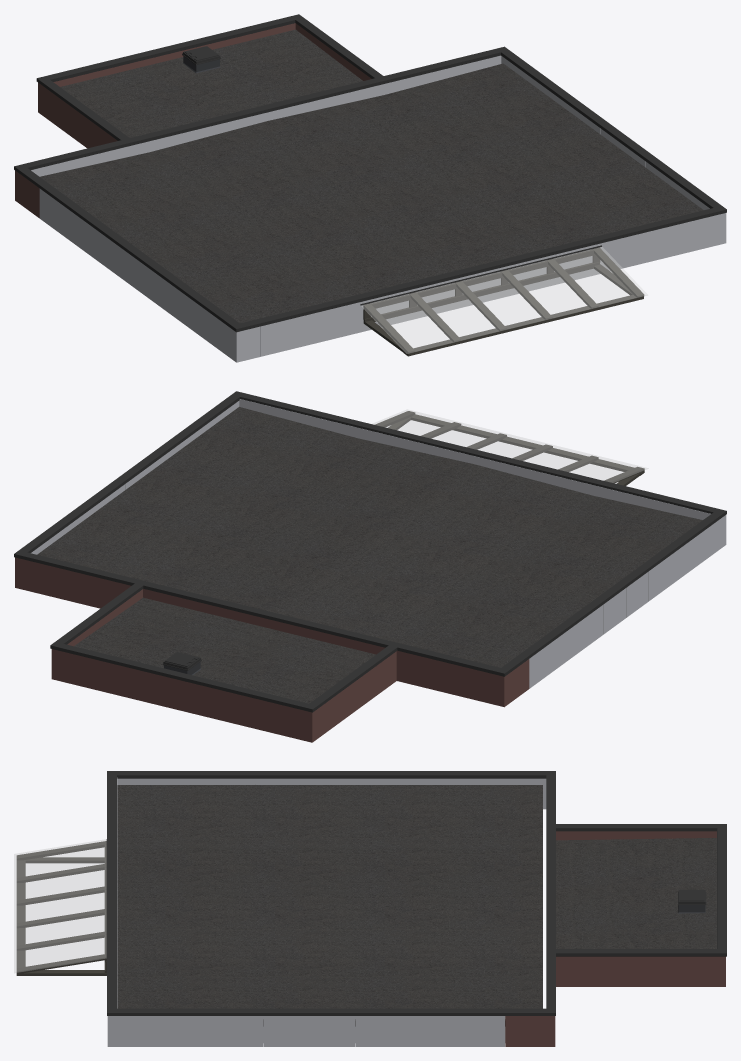
The model's file is Katused_Viimistlus_C.glb.
3 views of the same model, one above another, from view 1: azimuth 30°, elevation 25°; view 2: azimuth 150°, elevation 25°; view 3: azimuth 270°, elevation 25° (orthographic).
Visible parts, largest first — view 1: Box415, Kiudtsementplaat_115, Rectangle014, Box414, Box423, Kiudtsementplaat_114, Box420, Box421 (×2), Box417; view 2: Box415, Kiudtsementplaat_115, Rectangle014, Box414, Kiudtsementplaat_114, Box423, Box420, Box417; view 3: Box415, Kiudtsementplaat_115, Box414, Rectangle014, Box423, Kiudtsementplaat_114, Box420, Box418 (×2), Box417.
Boxes of the visible parts, x1,y1,x2,y2 form: Box415: (40, 63, 703, 323); Kiudtsementplaat_115: (15, 55, 726, 362); Rectangle014: (14, 14, 726, 332); Box414: (60, 29, 362, 137); Box423: (361, 247, 647, 353); Kiudtsementplaat_114: (38, 23, 371, 148); Box420: (363, 247, 644, 353); Box421 (×2): (363, 249, 599, 321); Box417: (403, 295, 643, 356); Box415: (37, 407, 702, 667); Kiudtsementplaat_115: (15, 399, 726, 707); Rectangle014: (14, 391, 726, 712); Box414: (74, 597, 375, 703); Kiudtsementplaat_114: (51, 589, 396, 742); Box423: (372, 409, 648, 482); Box420: (375, 411, 644, 483); Box417: (411, 414, 644, 475); Box415: (117, 785, 542, 1026); Kiudtsementplaat_115: (107, 777, 555, 1046); Box414: (556, 838, 716, 948); Rectangle014: (107, 771, 726, 1015); Box423: (14, 839, 106, 972); Kiudtsementplaat_114: (556, 831, 725, 986); Box420: (16, 841, 106, 973); Box418 (×2): (23, 857, 106, 975); Box417: (16, 860, 25, 975).
Bounding box in the file's own units: 15.65 × 1.08 × 19.51.
7 materials, 1 textured.
